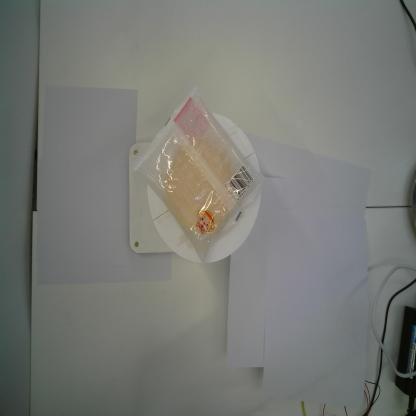Dessert: (131, 81, 268, 273)
